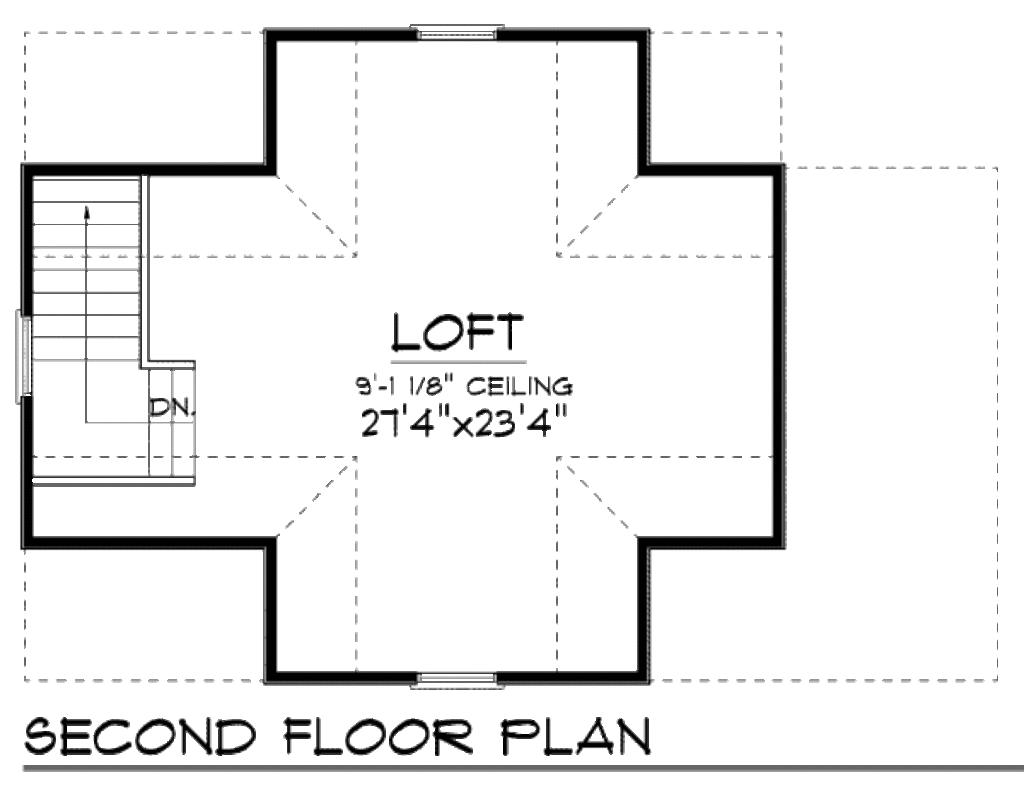stairs: (31, 172, 219, 488)
window: (411, 22, 507, 51), (12, 314, 36, 403), (410, 669, 505, 691)
